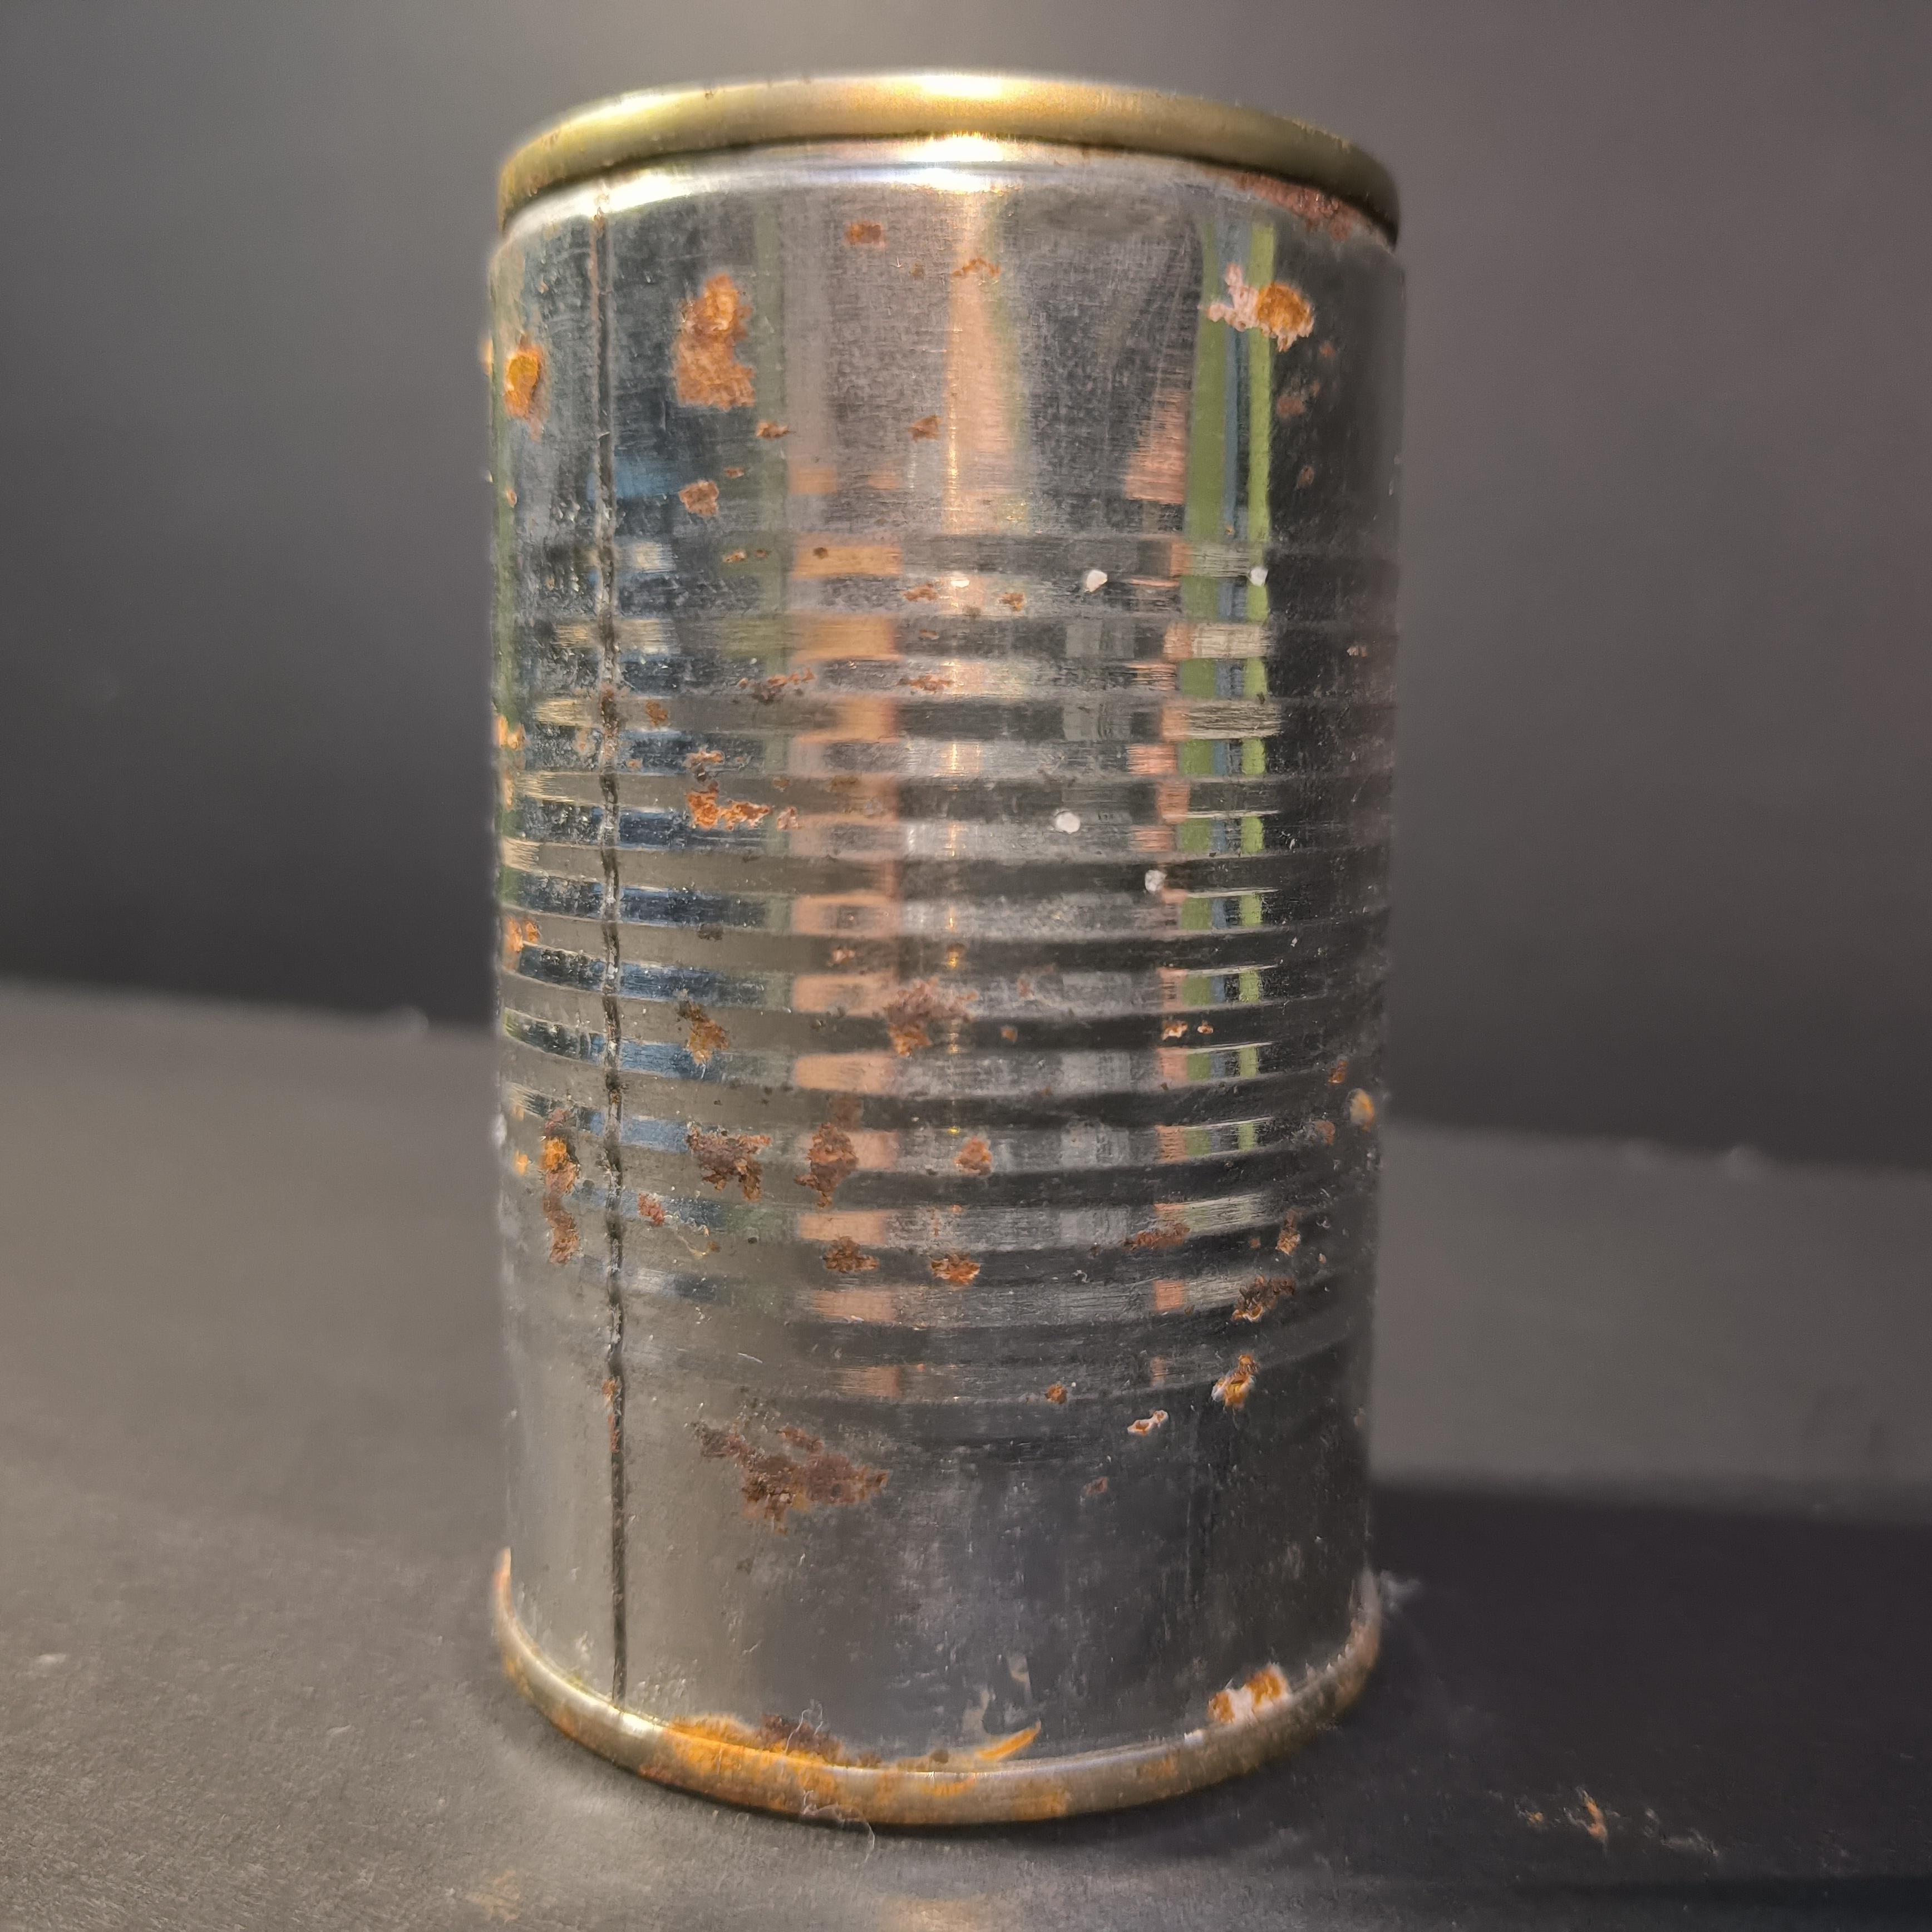Rusted: (476, 53, 1422, 1836)
